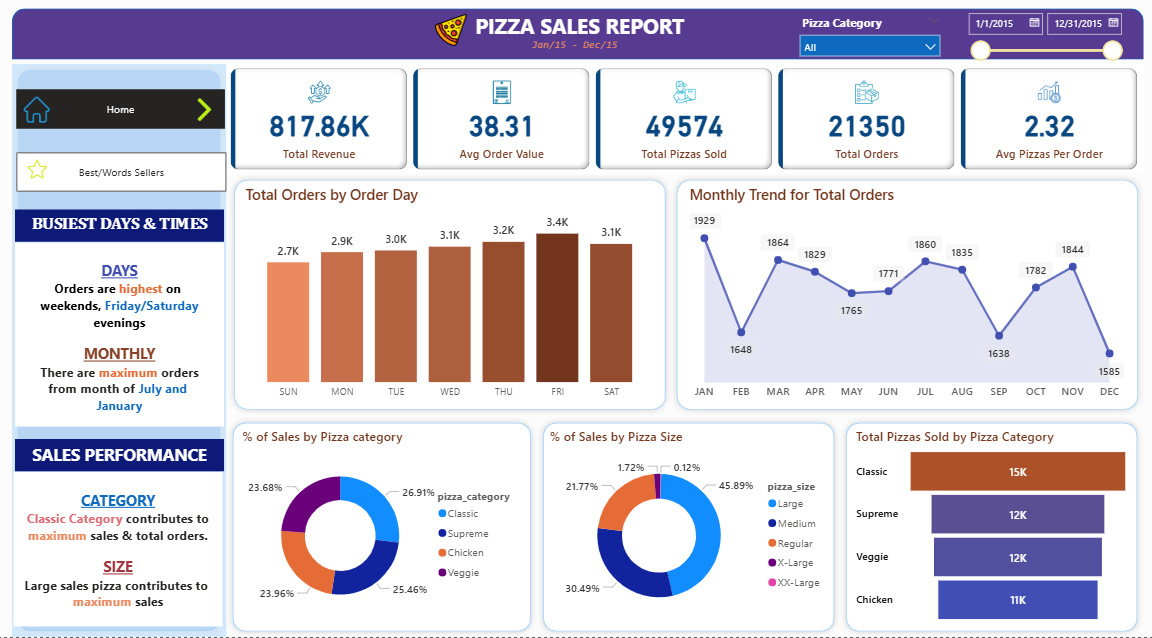

The page's visual inventory and layout, read from the dashboard file:
{"tool":"powerbi","page":{"name":"Home","canvas":[1500,820],"ordinal":0},"visuals":[{"type":"cardVisual","fields":{"Data":["pizza_sales.Total Revenue","pizza_sales.Avg Order Value","pizza_sales.Total Pizzas sold","pizza_sales.Total Orders","pizza_sales.Avg Pizzas Per Order"]},"box":[298.2,85.5,1176.4,140],"z":0},{"type":"shape","box":[23.6,12.7,1450.9,65.5],"z":1000},{"type":"textbox","box":[606.9,12.1,286.2,53.4],"z":2000},{"type":"textbox","box":[684.5,44.8,129.3,32.8],"z":3000},{"type":"image","box":[549.1,15.1,71.7,50.9],"z":4000},{"type":"shape","box":[300,225.5,569.1,310.9],"z":5000},{"type":"columnChart","fields":{"Y":["pizza_sales.Total Orders"],"Category":["pizza_sales.Order Day"]},"box":[318.2,238.2,534.5,283.6],"z":6000},{"type":"shape","box":[867.3,225.5,607.3,310.9],"z":7000},{"type":"areaChart","title":"Monthly Trend for Total Orders","fields":{"Y":["pizza_sales.Total Orders"],"Category":["pizza_sales.Order Month"]},"box":[887.3,238.2,567.3,285.5],"z":8000},{"type":"shape","box":[298.2,536.4,398.2,283.6],"z":9000},{"type":"shape","box":[696.4,536.4,389.1,283.6],"z":10000},{"type":"shape","box":[1085.5,536.4,389.1,283.6],"z":11000},{"type":"donutChart","title":"% of Sales by Pizza category","fields":{"Category":["pizza_sales.pizza_category"],"Y":["pizza_sales.Total Revenue"]},"box":[312.7,549.1,369.1,256.4],"z":12000},{"type":"donutChart","title":"% of Sales by Pizza Size ","fields":{"Y":["pizza_sales.Total Revenue"],"Category":["pizza_sales.pizza_size"]},"box":[707.3,550.9,369.1,256.4],"z":13000},{"type":"funnel","title":"Total Pizzas Sold by Pizza Category","fields":{"Category":["pizza_sales.pizza_category"],"Y":["pizza_sales.Total Pizzas Sold"]},"box":[1100,549.1,360,256.4],"z":14000},{"type":"shape","box":[23.6,85.5,274.5,734.5],"z":15000},{"type":"textbox","box":[26.4,271.7,267.9,41.5],"z":16000},{"type":"textbox","box":[26.4,313.2,267.9,235.8],"z":17000},{"type":"textbox","box":[26.4,566,267.9,41.5],"z":18000},{"type":"textbox","box":[24.5,607.5,267.9,198.1],"z":19000},{"type":"slicer","fields":{"Values":["pizza_sales.pizza_category"]},"box":[1022.6,15.1,200,64.2],"z":20000},{"type":"slicer","fields":{"Values":["pizza_sales.order_date"]},"box":[1235.8,9.4,218.9,75.5],"z":21000},{"type":"pageNavigator","box":[28.3,117,267.9,50.9],"z":22000},{"type":"pageNavigator","box":[28.3,198.1,269.8,50.9],"z":23000},{"type":"image","box":[237.7,122.6,62.3,39.6],"z":24000},{"type":"image","box":[0,120.8,109.4,43.4],"z":25000},{"type":"image","box":[32.1,201.9,45.3,35.8],"z":26000}]}

Visuals, with their boxes in screenshot pixels (x1, y1, x2, y2), scaled from the page's 1500x820 canvas onto the 1152x638 screenshot:
cardVisual - pizza_sales.Total Revenue x pizza_sales.Avg Order Value: 229 67 1132 175
shape: 18 10 1132 61
textbox: 466 9 686 51
textbox: 526 35 625 60
image: 422 12 477 51
shape: 230 175 667 417
columnChart - pizza_sales.Total Orders x pizza_sales.Order Day: 244 185 655 406
shape: 666 175 1132 417
"Monthly Trend for Total Orders" areaChart: 681 185 1117 407
shape: 229 417 535 637
shape: 535 417 834 637
shape: 834 417 1132 637
"% of Sales by Pizza category" donutChart: 240 427 524 627
"% of Sales by Pizza Size " donutChart: 543 429 827 628
"Total Pizzas Sold by Pizza Category" funnel: 845 427 1121 627
shape: 18 67 229 637
textbox: 20 211 226 244
textbox: 20 244 226 427
textbox: 20 440 226 473
textbox: 19 473 225 627
slicer - pizza_sales.pizza_category: 785 12 939 62
slicer - pizza_sales.order_date: 949 7 1117 66
pageNavigator: 22 91 227 131
pageNavigator: 22 154 229 194
image: 183 95 230 126
image: 0 94 84 128
image: 25 157 59 185
